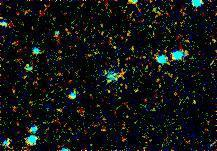star: (45, 95, 75, 125)
